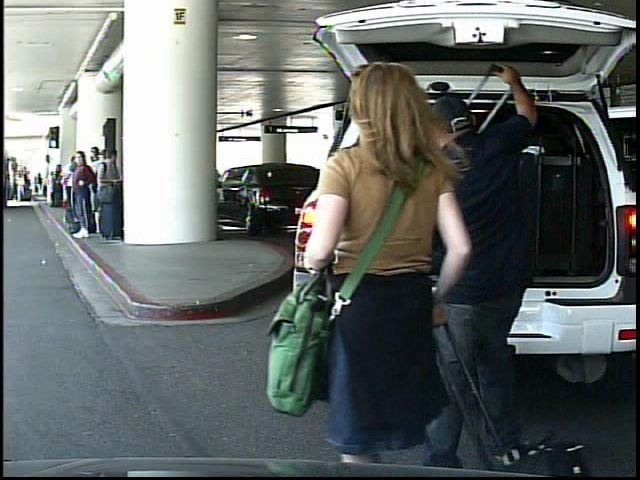person: (294, 47, 487, 473), (386, 62, 551, 455), (16, 174, 27, 205), (35, 172, 46, 199)
